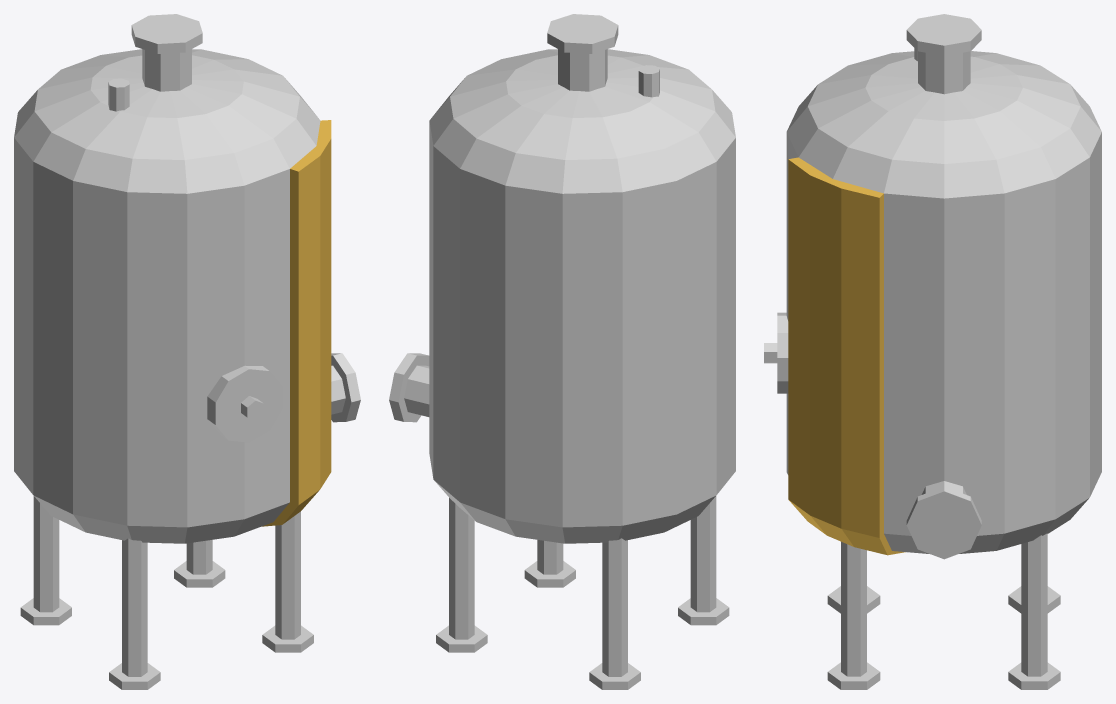
File: brite-tank.glb
3 renders of one model, left to right at view 1: azimuth 30°, elevation 25°; view 2: azimuth 150°, elevation 25°; view 3: azimuth 270°, elevation 25°, orthographic.
Parts seen in each view (by area): view 1: shell, liquid, manway, leg.3, leg.0, leg.2, inlet, inlet.flange, outlet.flange, leg.2.foot, leg.0.foot, leg.1 (+4 smaller); view 2: shell, leg.2, leg.1, leg.3, inlet, inlet.flange, outlet.flange, outlet, leg.3.foot, leg.1.foot, leg.0, leg.0.foot (+2 smaller); view 3: shell, liquid, outlet.flange, leg.1, leg.0, inlet, inlet.flange, outlet, manway, leg.1.foot, leg.0.foot, leg.2.foot.
Boxes of the visible parts, <box> form: shell: <box>14,49,320,543</box>; liquid: <box>262,120,331,526</box>; manway: <box>207,365,282,442</box>; leg.3: <box>122,538,147,676</box>; leg.0: <box>275,511,300,639</box>; leg.2: <box>33,496,59,612</box>; inlet: <box>142,18,191,91</box>; inlet.flange: <box>131,14,202,53</box>; outlet.flange: <box>331,353,360,422</box>; leg.2.foot: <box>20,598,71,625</box>; leg.0.foot: <box>262,625,313,652</box>; leg.1: <box>186,540,212,574</box>; shell: <box>429,49,735,543</box>; leg.2: <box>602,538,627,676</box>; leg.1: <box>449,498,474,639</box>; leg.3: <box>690,496,716,612</box>; inlet: <box>558,18,607,91</box>; inlet.flange: <box>547,14,618,53</box>; outlet.flange: <box>389,353,429,422</box>; outlet: <box>404,365,429,416</box>; leg.3.foot: <box>678,598,729,625</box>; leg.1.foot: <box>436,625,487,652</box>; leg.0: <box>537,540,563,574</box>; leg.0.foot: <box>524,561,575,587</box>; shell: <box>786,51,1101,553</box>; liquid: <box>788,157,905,555</box>; outlet.flange: <box>906,486,981,559</box>; leg.1: <box>1021,533,1047,676</box>; leg.0: <box>841,541,866,676</box>; inlet: <box>918,18,970,94</box>; inlet.flange: <box>906,14,981,55</box>; outlet: <box>918,481,969,548</box>; manway: <box>777,312,788,393</box>; leg.1.foot: <box>1008,662,1060,689</box>; leg.0.foot: <box>827,662,880,689</box>; leg.2.foot: <box>1008,586,1060,613</box>.
Size of the model in its own units: 0.97 by 1.8 by 0.9.
